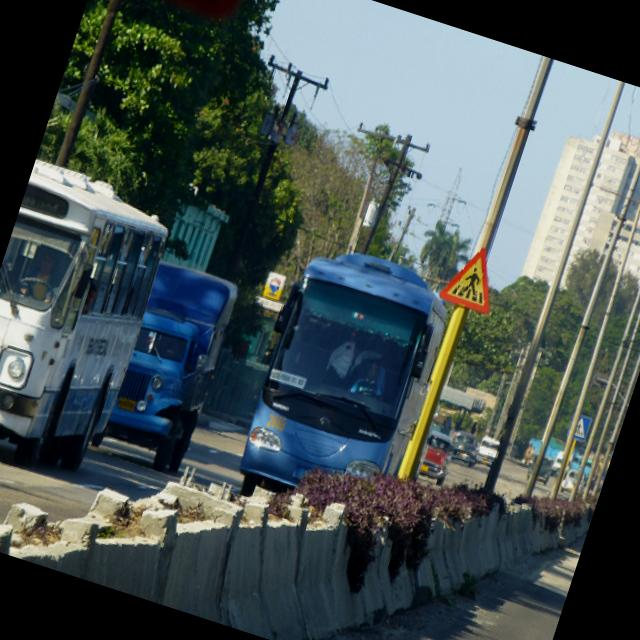Vehicle: (215, 231, 466, 545), (0, 156, 181, 494), (95, 254, 248, 486), (414, 428, 459, 488), (448, 428, 484, 468), (523, 452, 555, 486), (472, 433, 503, 468), (476, 435, 502, 463), (558, 467, 578, 497), (549, 450, 565, 478), (577, 472, 590, 494)
